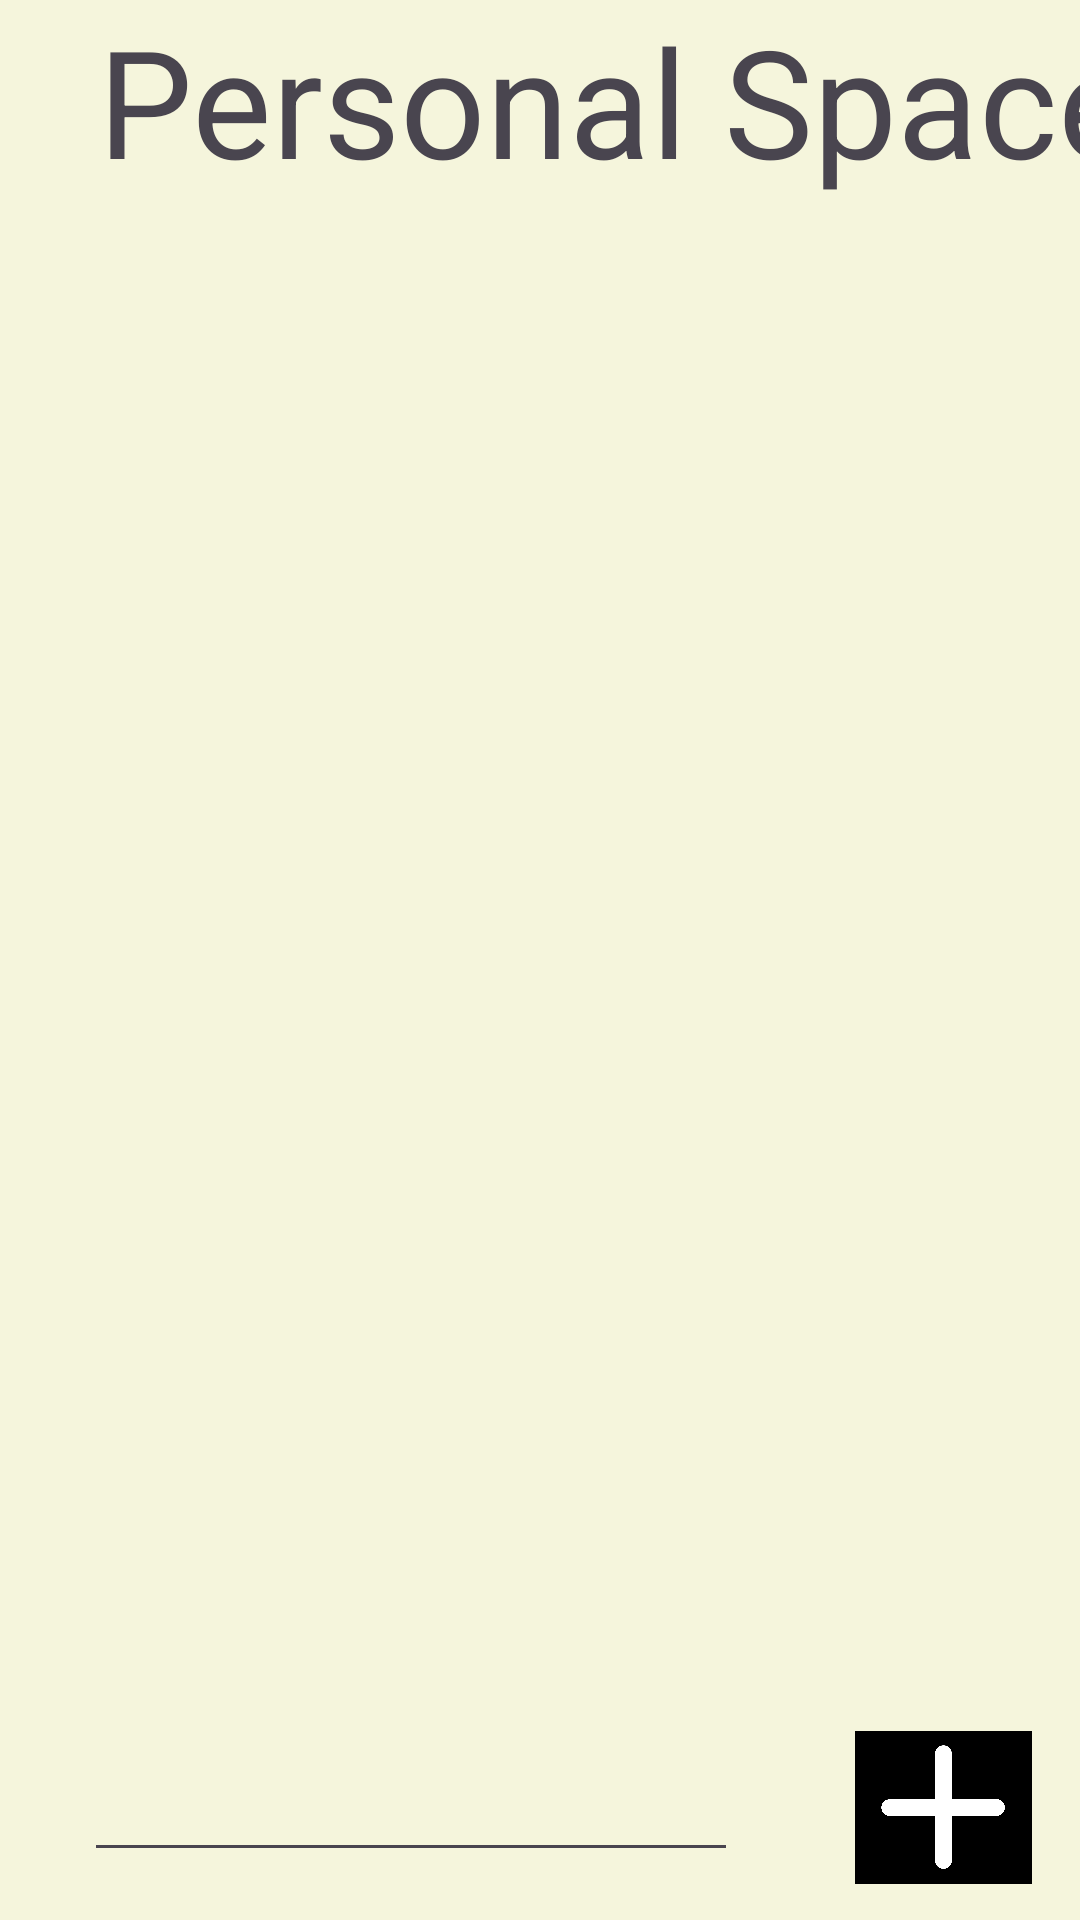

Icon click points for this 1080px x 1920px phone screenshot, format point (x, y):
plus: point (943, 1807)
